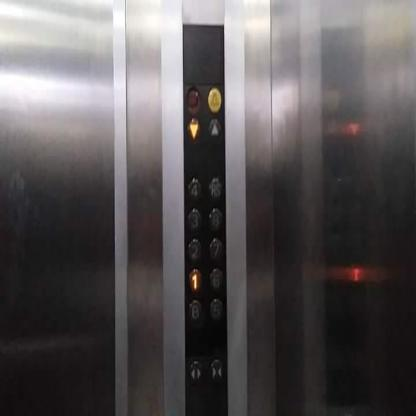1: (187, 267, 202, 295)
2: (186, 238, 203, 266)
3: (186, 205, 202, 233)
4: (187, 174, 201, 203)
5: (208, 296, 224, 324)
6: (208, 265, 224, 295)
8: (208, 235, 224, 264), (207, 210, 221, 233)
B: (187, 298, 202, 324)
RS: (205, 174, 224, 206)
alarm: (206, 83, 223, 114)
blur: (186, 85, 200, 116)
close: (208, 356, 224, 387)
down: (187, 117, 200, 145)
open: (186, 357, 204, 388)
up: (207, 117, 221, 144)
